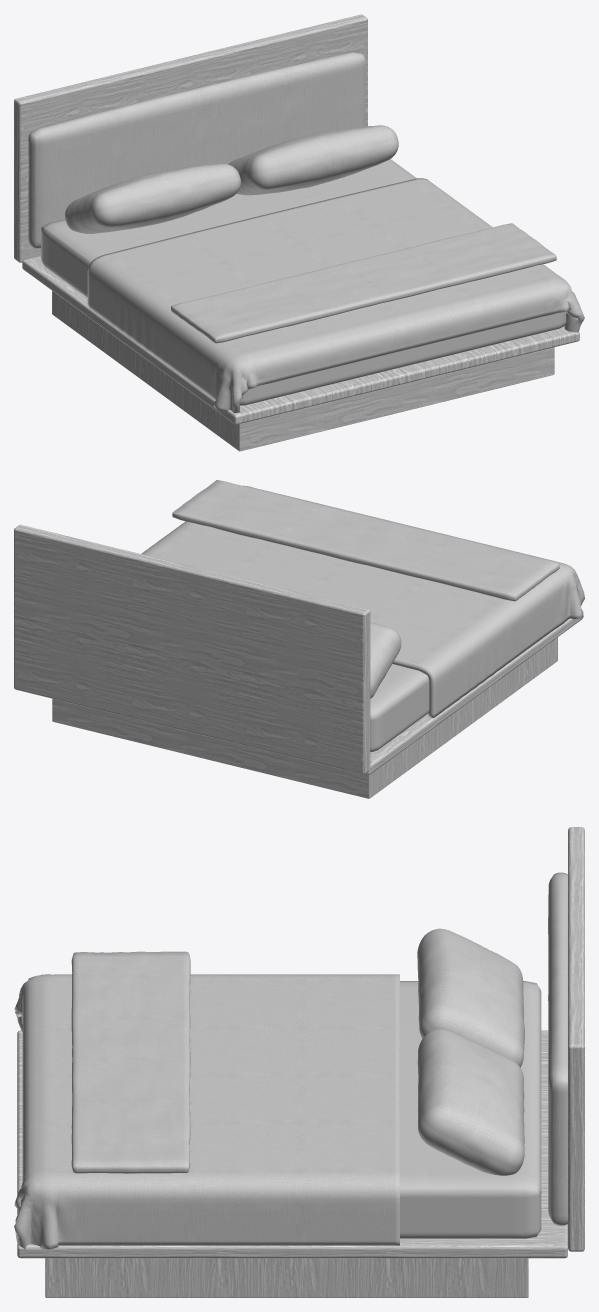
File: bed-king.gltf
3 views of the same model, one above another, from view 1: azimuth 30°, elevation 25°; view 2: azimuth 150°, elevation 25°; view 3: azimuth 270°, elevation 25° (orthographic). The views are drawn at different scales.
Parts seen in each view (by area): view 1: bed; view 2: bed; view 3: bed.
Part boxes in pixels (<box>): bed: <box>14,14,584,451</box>; bed: <box>14,480,584,798</box>; bed: <box>14,827,584,1297</box>.
Size of the model in its own units: 1.92 by 1.03 by 2.03.
4 materials, 4 textured.
